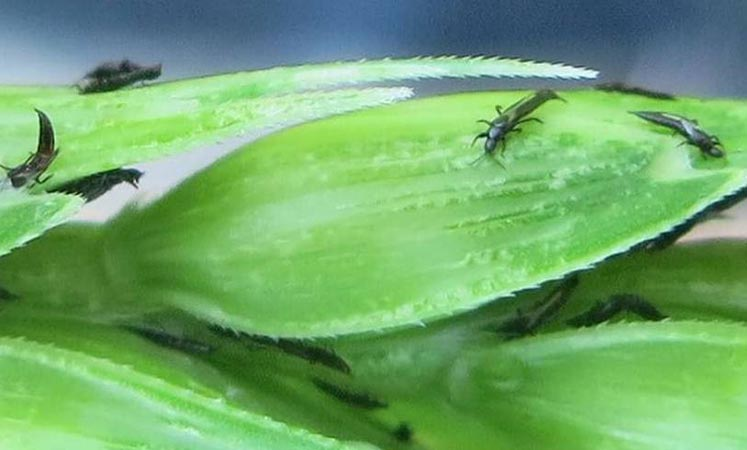Phlaeothripidae: (467, 85, 568, 173), (212, 318, 355, 377), (487, 269, 586, 339), (622, 105, 729, 164), (1, 109, 61, 190), (118, 327, 222, 369), (72, 51, 165, 97), (565, 302, 690, 331)
